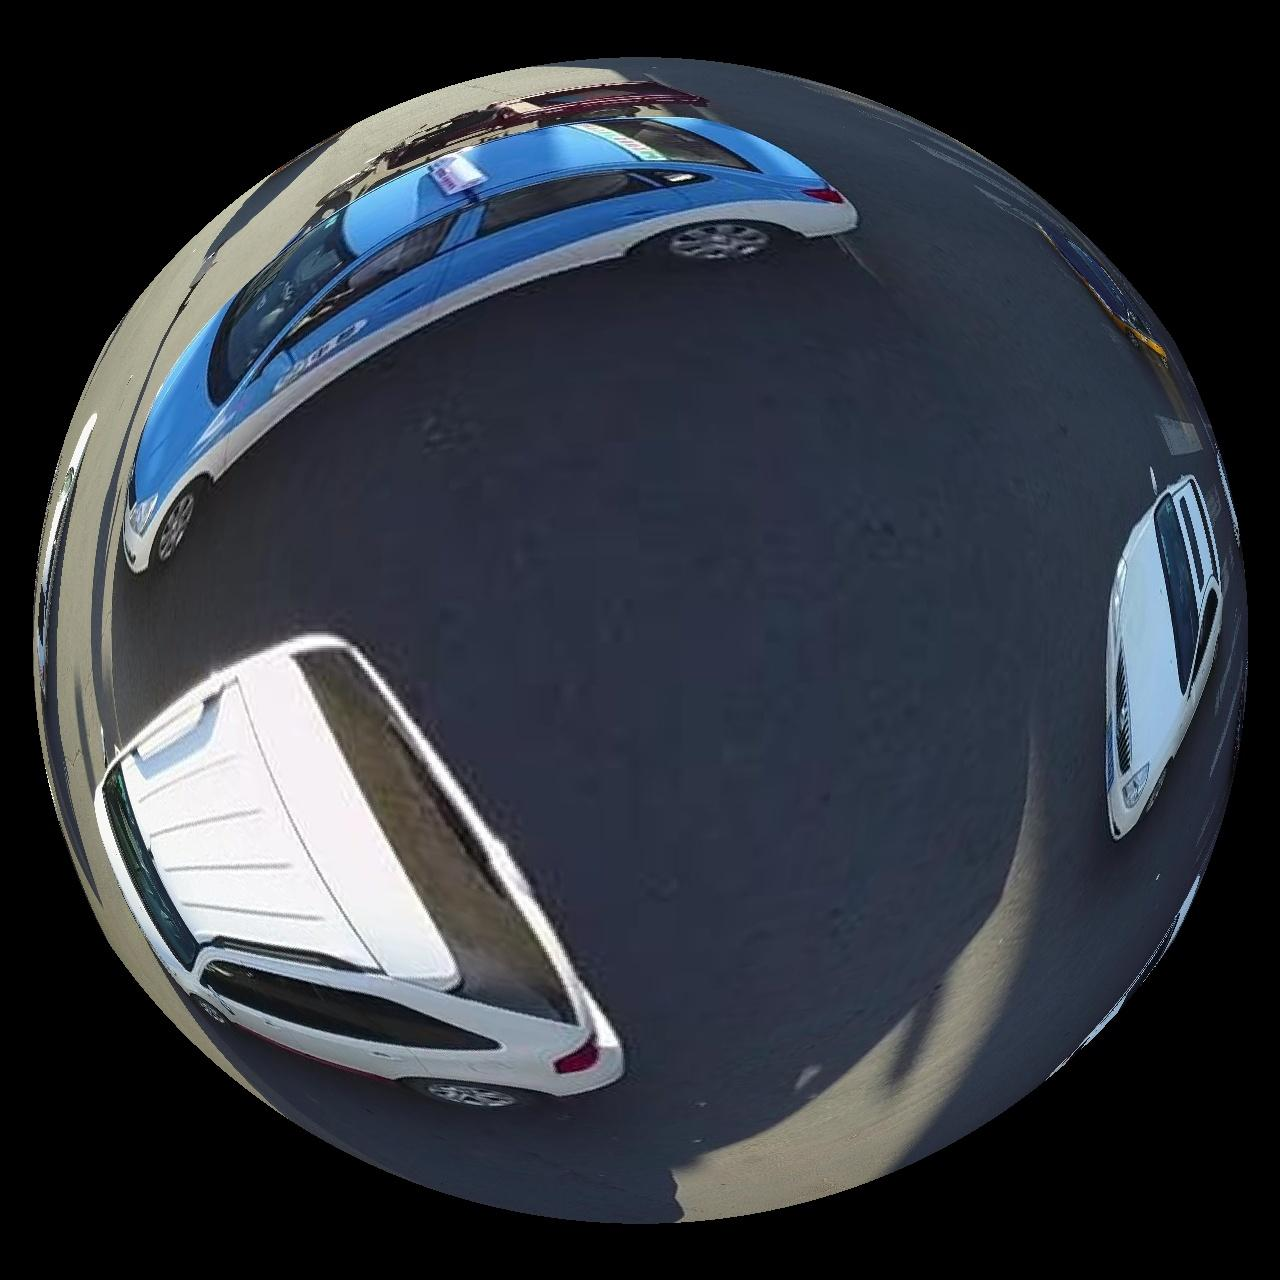cars: (120, 115, 857, 572), (94, 635, 624, 1107), (318, 79, 709, 210), (1108, 475, 1226, 840), (1034, 220, 1170, 362)
